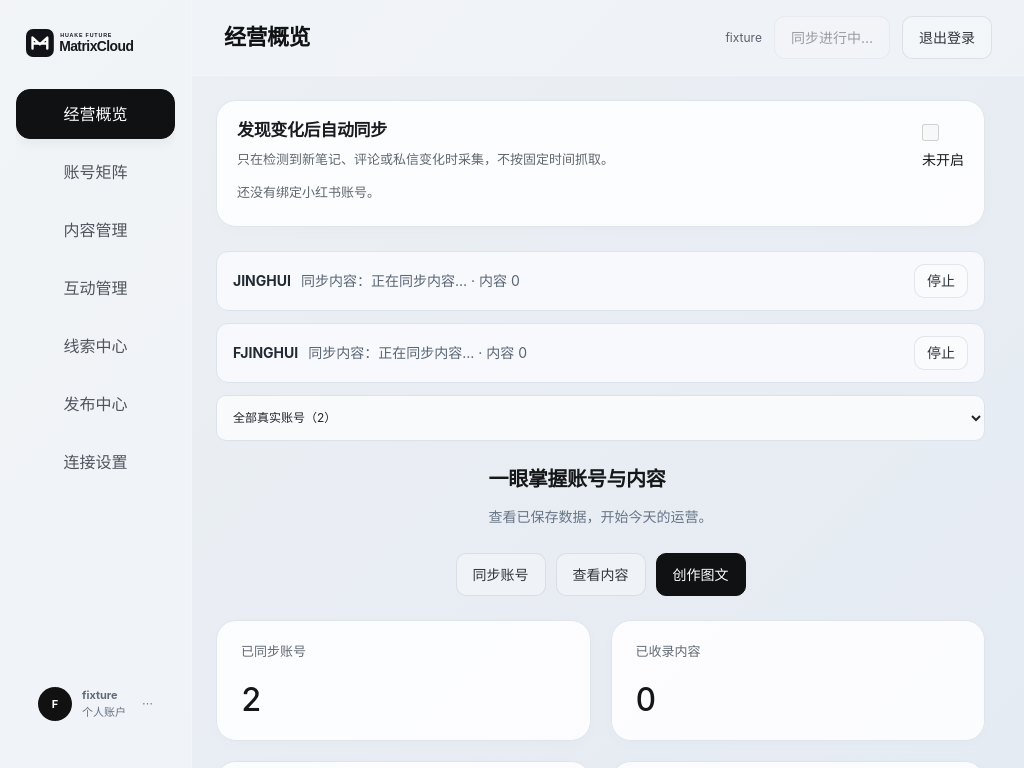
it: updates a completed account while the other status response is still pending
Check: the text "已同步账号" is shown, box [241,643,306,659]
Click the button "账号矩阵": (96, 172) [16,147,175,197]
(page scrolled)
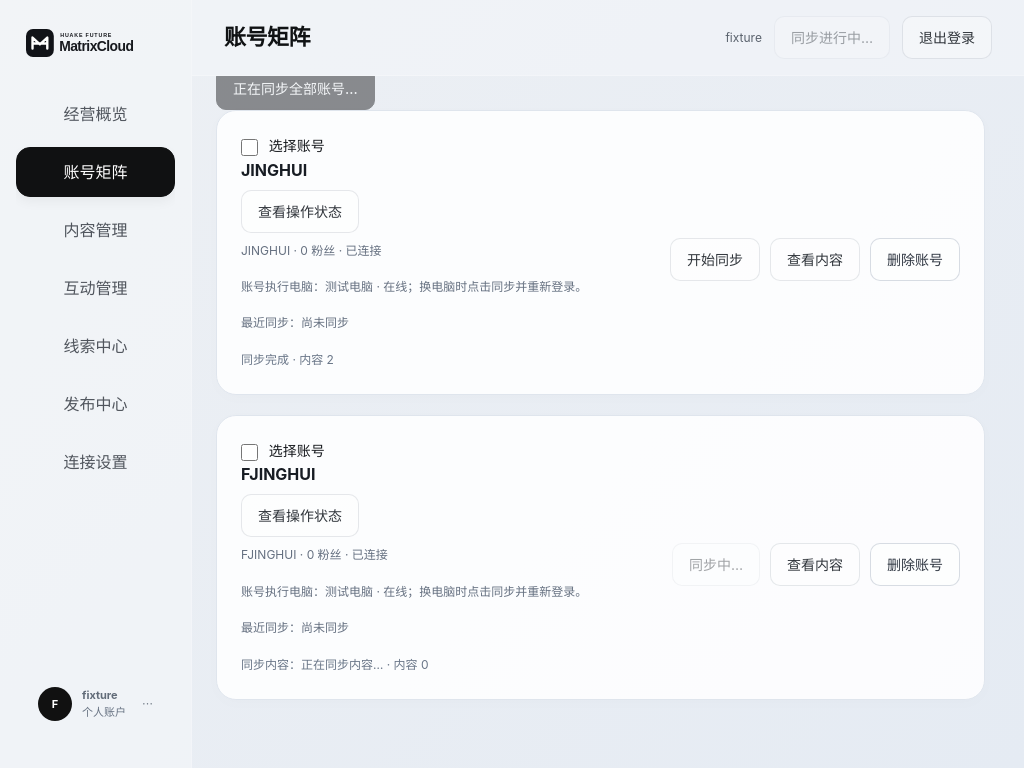
Check: the heading "JINGHUI" is shown, box [241,160,307,180]
Check: the message "同步完成 · 内容 2" is shown, box [241,352,334,367]
